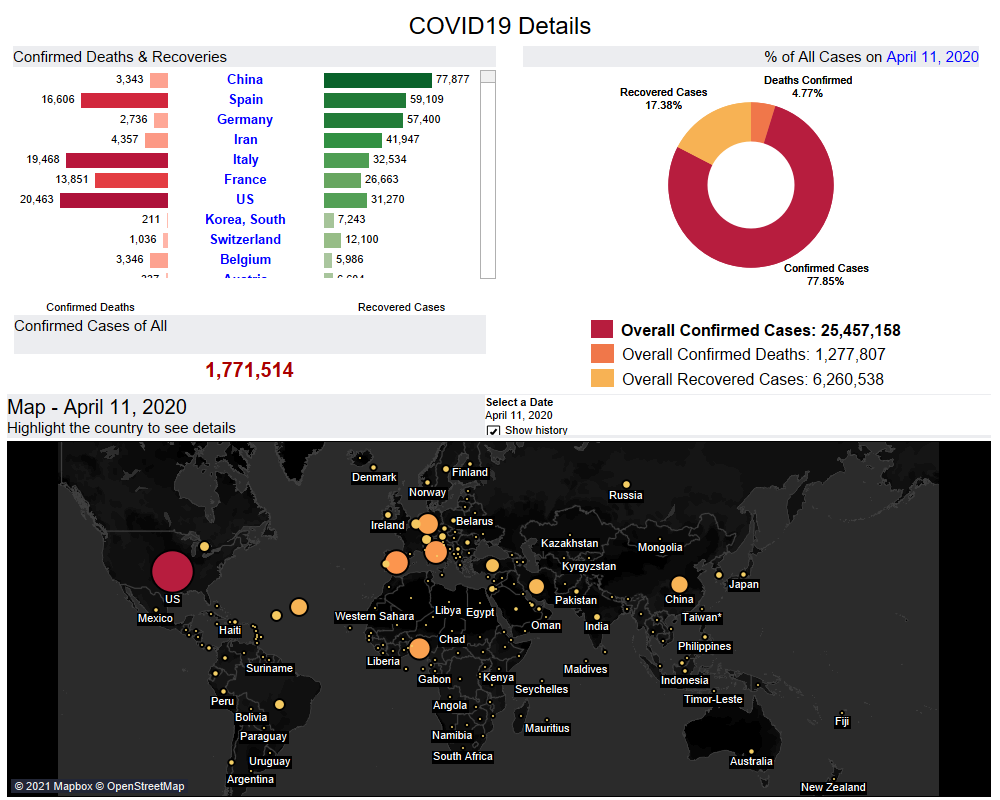

The page's visual inventory and layout, read from the dashboard file:
{"tool":"tableau","page":{"name":"COVID19 Details","canvas":[1000,800],"ordinal":0},"visuals":[{"type":"worksheet","box":[0,0,1000,800]},{"type":"worksheet","param":"horz","box":[8,8,984,784]},{"type":"worksheet","param":"horz","box":[8,8,984,784]},{"type":"worksheet","param":"vert","box":[8,8,984,784]},{"type":"worksheet","box":[8,8,984,35]},{"type":"worksheet","param":"horz","box":[8,43,984,749]},{"type":"worksheet","param":"vert","box":[8,43,984,749]},{"type":"worksheet","box":[8,43,984,749]},{"type":"worksheet","box":[8,43,984,749]},{"type":"worksheet","title":"Confirmed Deaths & Recoveries","mark":"Automatic","rows":["Calculation_166633187628589057","Country/Region"],"cols":["Pivot Field Values (Pivot1)","Calculation_166633187619504128","Pivot Field Values (Pivot2)"],"box":[7.8,45.9,483.1,271.6]},{"type":"worksheet","title":"% of All Cases","mark":"Pie","rows":["Calculation_376050569391263749","Calculation_376050569391263749"],"box":[523,46,456,369]},{"type":"worksheet","title":"Total Confirmed cases","mark":"Square","box":[7.8,314.9,471.9,105.4]},{"type":"worksheet","title":"Total Cases","mark":"Square","rows":["Pivot Field Values","Pivot Field Values (Pivot1)","Pivot Field Values (Pivot2)"],"box":[296,320,613,73]},{"type":"worksheet","title":"Map","mark":"Automatic","rows":["Lat"],"cols":["Long"],"box":[6.9,421.6,984.4,375.7]},{"type":"worksheet","title":"Map","mark":"Automatic","rows":["Lat"],"cols":["Long"],"box":[477.1,423,512.5,40.5]}]}

Visuals, with their boxes in screenshot pixels (x1, y1, x2, y2), scaled from the page's 1000x800 canvas onto the 1000x800 screenshot:
worksheet: 0/0/999/799
worksheet: 8/8/992/792
worksheet: 8/8/992/792
worksheet: 8/8/992/792
worksheet: 8/8/992/43
worksheet: 8/43/992/792
worksheet: 8/43/992/792
worksheet: 8/43/992/792
worksheet: 8/43/992/792
"Confirmed Deaths & Recoveries" worksheet: 8/46/491/318
"% of All Cases" worksheet (Pie marks): 523/46/979/415
"Total Confirmed cases" worksheet (Square marks): 8/315/480/420
"Total Cases" worksheet (Square marks): 296/320/909/393
"Map" worksheet: 7/422/991/797
"Map" worksheet: 477/423/990/464
